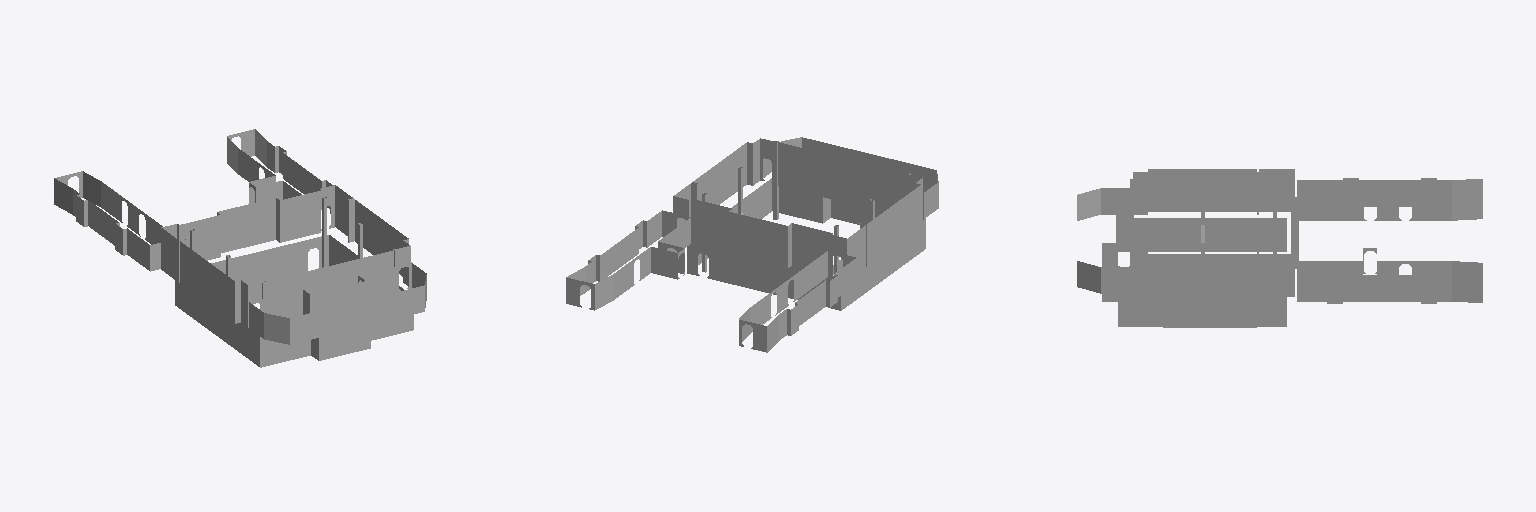
File: Level_1_Walls.obj
3 renders of one model, left to right at view 1: azimuth 30°, elevation 25°; view 2: azimuth 150°, elevation 25°; view 3: azimuth 270°, elevation 25°, orthographic.
Parts seen in each view (by area): view 1: Wall_Room_2_(Upper_Floor)_Plane.002_Walls, Wall_Room_2_(Lower_FLoor_Plane.034_Walls, Wall_Room_1_Wall_Room_11_Walls, Wall_Hallway_2_Plane.030_Walls, Wall_Hallway_1_(Gas)_Plane.031_Walls, Pillars_Cube.001_Walls; view 2: Wall_Room_2_(Upper_Floor)_Plane.002_Walls, Wall_Room_2_(Lower_FLoor_Plane.034_Walls, Wall_Hallway_1_(Gas)_Plane.031_Walls, Wall_Hallway_2_Plane.030_Walls, Wall_Room_1_Wall_Room_11_Walls, Pillars_Cube.001_Walls; view 3: Wall_Room_2_(Upper_Floor)_Plane.002_Walls, Wall_Room_2_(Lower_FLoor_Plane.034_Walls, Wall_Hallway_1_(Gas)_Plane.031_Walls, Wall_Hallway_2_Plane.030_Walls, Wall_Room_1_Wall_Room_11_Walls, Pillars_Cube.001_Walls.
Boxes of the visible parts, <box> form: Wall_Room_2_(Upper_Floor)_Plane.002_Walls: <box>161,185,410,327</box>; Wall_Room_2_(Lower_FLoor_Plane.034_Walls: <box>175,235,413,367</box>; Wall_Room_1_Wall_Room_11_Walls: <box>249,262,426,344</box>; Wall_Hallway_2_Plane.030_Walls: <box>54,171,162,271</box>; Wall_Hallway_1_(Gas)_Plane.031_Walls: <box>227,129,332,227</box>; Pillars_Cube.001_Walls: <box>190,197,398,312</box>; Wall_Room_2_(Upper_Floor)_Plane.002_Walls: <box>673,138,922,277</box>; Wall_Room_2_(Lower_FLoor_Plane.034_Walls: <box>687,178,925,310</box>; Wall_Hallway_1_(Gas)_Plane.031_Walls: <box>566,210,690,310</box>; Wall_Hallway_2_Plane.030_Walls: <box>739,251,856,352</box>; Wall_Room_1_Wall_Room_11_Walls: <box>762,137,938,219</box>; Pillars_Cube.001_Walls: <box>702,141,910,273</box>; Wall_Room_2_(Upper_Floor)_Plane.002_Walls: <box>1133,169,1298,296</box>; Wall_Room_2_(Lower_FLoor_Plane.034_Walls: <box>1102,218,1286,327</box>; Wall_Hallway_1_(Gas)_Plane.031_Walls: <box>1297,248,1482,303</box>; Wall_Hallway_2_Plane.030_Walls: <box>1297,178,1482,220</box>; Wall_Room_1_Wall_Room_11_Walls: <box>1077,188,1130,293</box>; Pillars_Cube.001_Walls: <box>1130,179,1276,293</box>.
Bounding box in the file's own units: 18.26 × 7.62 × 31.62.